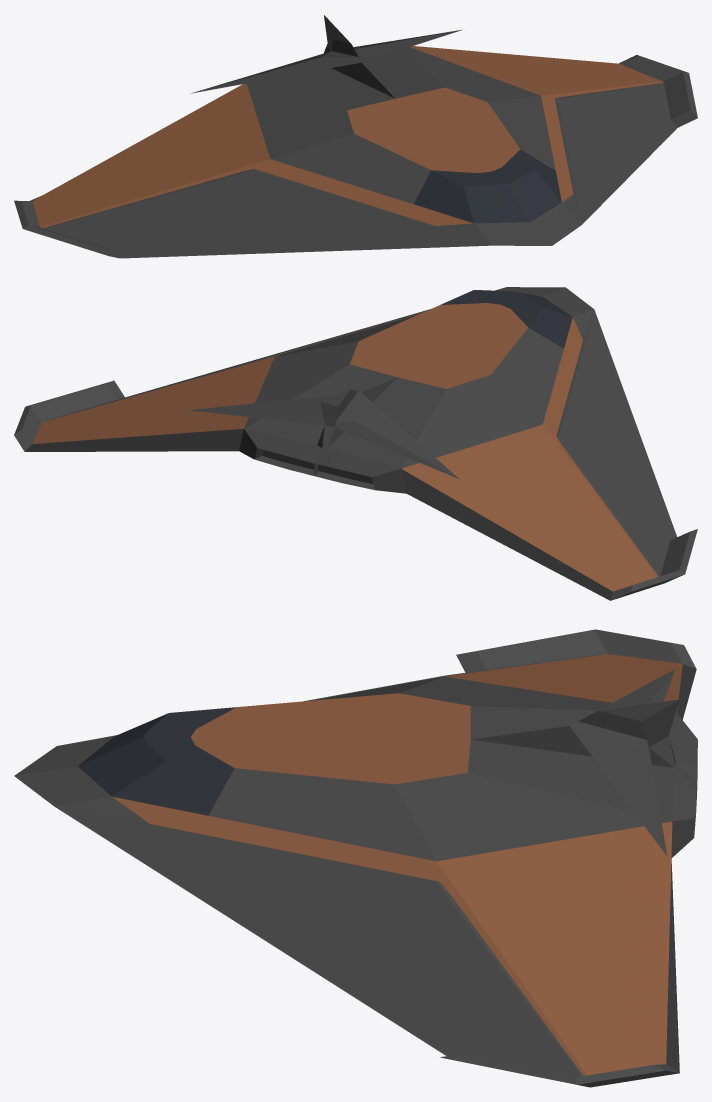
File: SpaceShip.fbx
The picture shows the model from 3 angles, top to bottom: view 1: azimuth 30°, elevation 25°; view 2: azimuth 150°, elevation 25°; view 3: azimuth 270°, elevation 25°; orthographic projection. The views are drawn at different scales.
Visible parts, largest first — view 1: Plane; view 2: Plane; view 3: Plane.
Part boxes in pixels (x1,y1,x2,y2): Plane: (14,15,697,258); Plane: (14,287,697,600); Plane: (14,629,697,1087).
Size of the model in its own units: 756 by 133 by 480.
